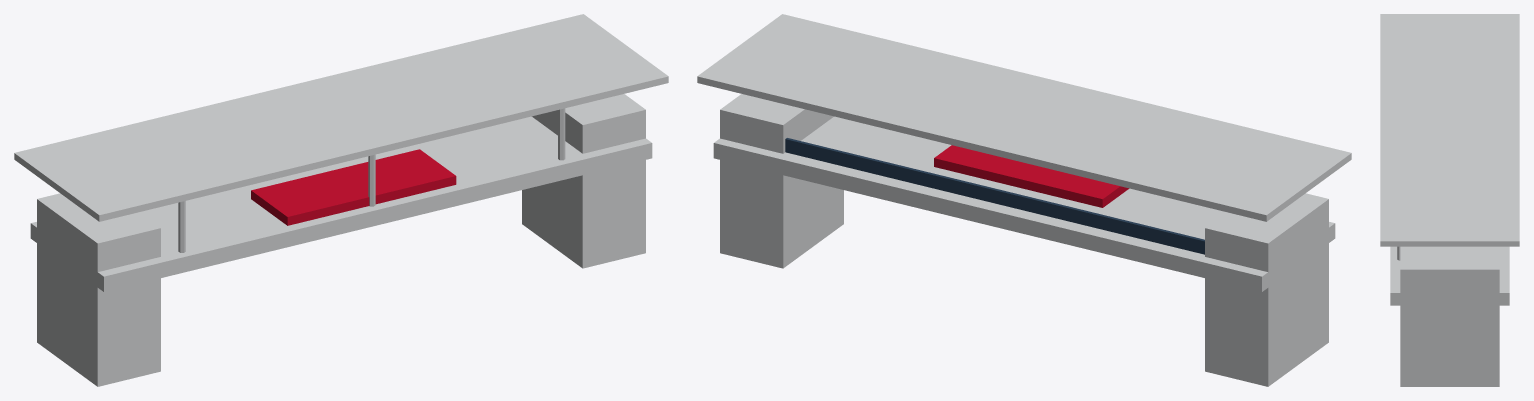
Rendered from podio-monza.glb.
3 views of the same model, side by side, from view 1: azimuth 30°, elevation 25°; view 2: azimuth 150°, elevation 25°; view 3: azimuth 270°, elevation 25° (orthographic). The views are drawn at different scales.
Parts seen in each view (by area): view 1: podio-monza; view 2: podio-monza; view 3: podio-monza.
Part boxes in pixels (x1=…): podio-monza: x1=14, y1=14, x2=668, y2=386; podio-monza: x1=697, y1=14, x2=1351, y2=386; podio-monza: x1=1380, y1=14, x2=1519, y2=386.
Bounding box in the file's own units: 54 × 16.6 × 14.
